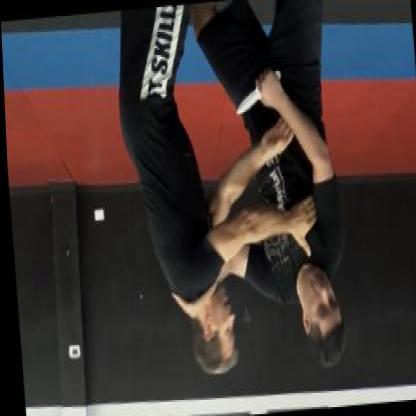knife: (229, 63, 284, 118)
